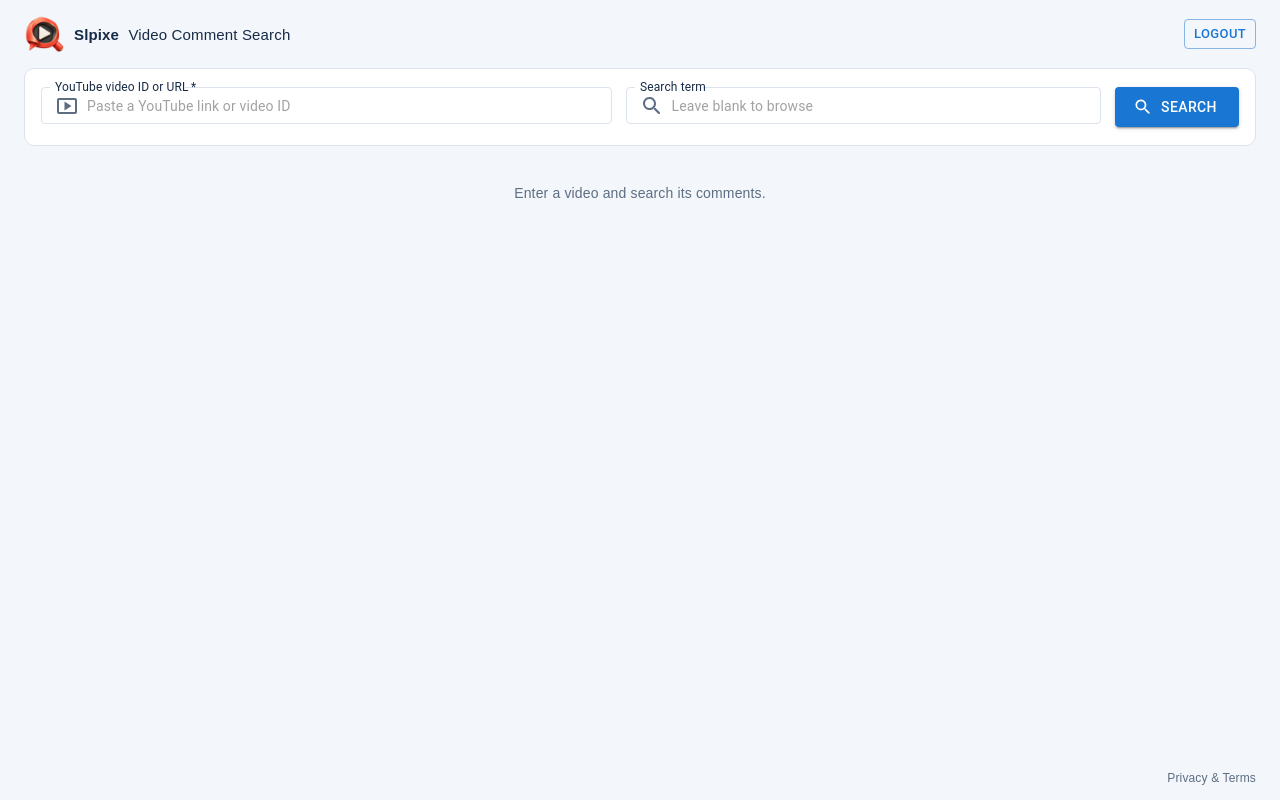
Test: VideoCommentsSearch › appends subsequent pages and hides the button on the final page
Type "kJQP7kiw5Fk" into the field labelled "YouTube video ID or URL *" at (349, 106), box [87,87,612,124]
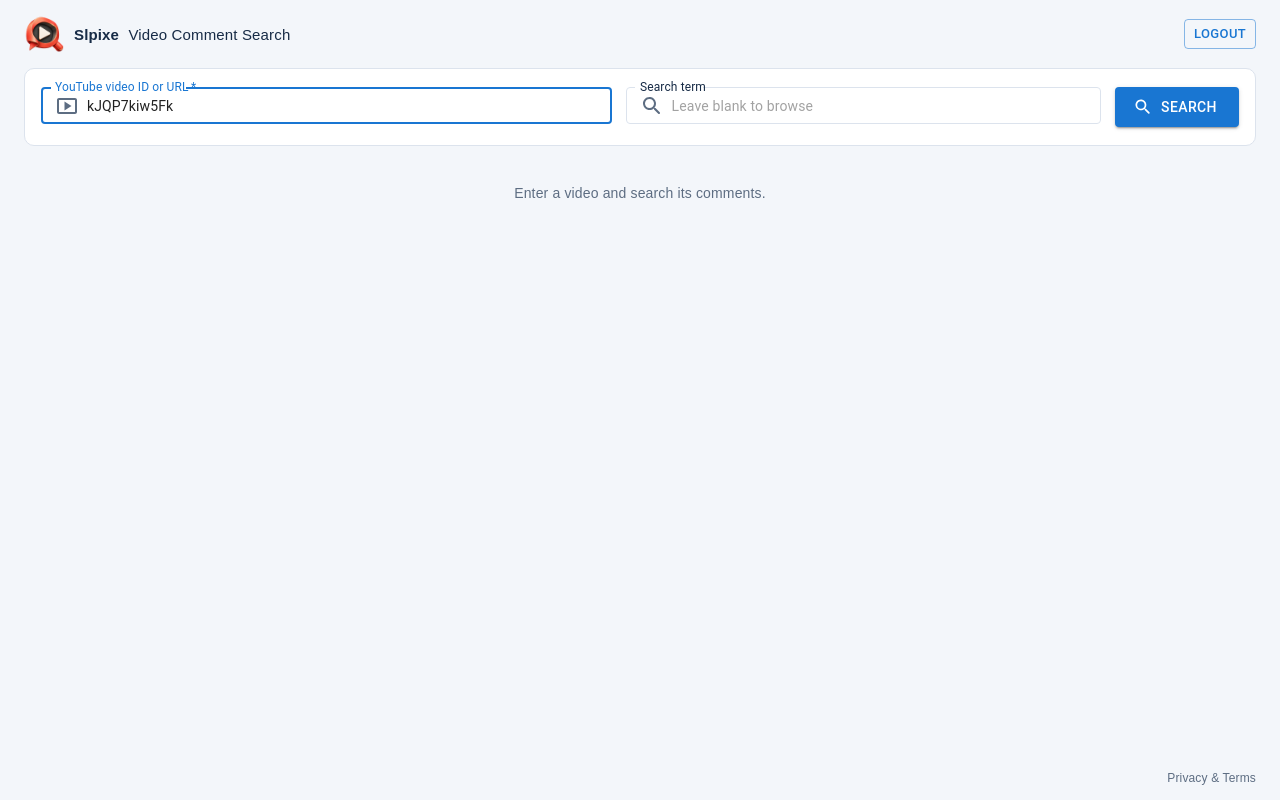
Click the button "Search" at (1177, 107), box [1115,87,1239,127]
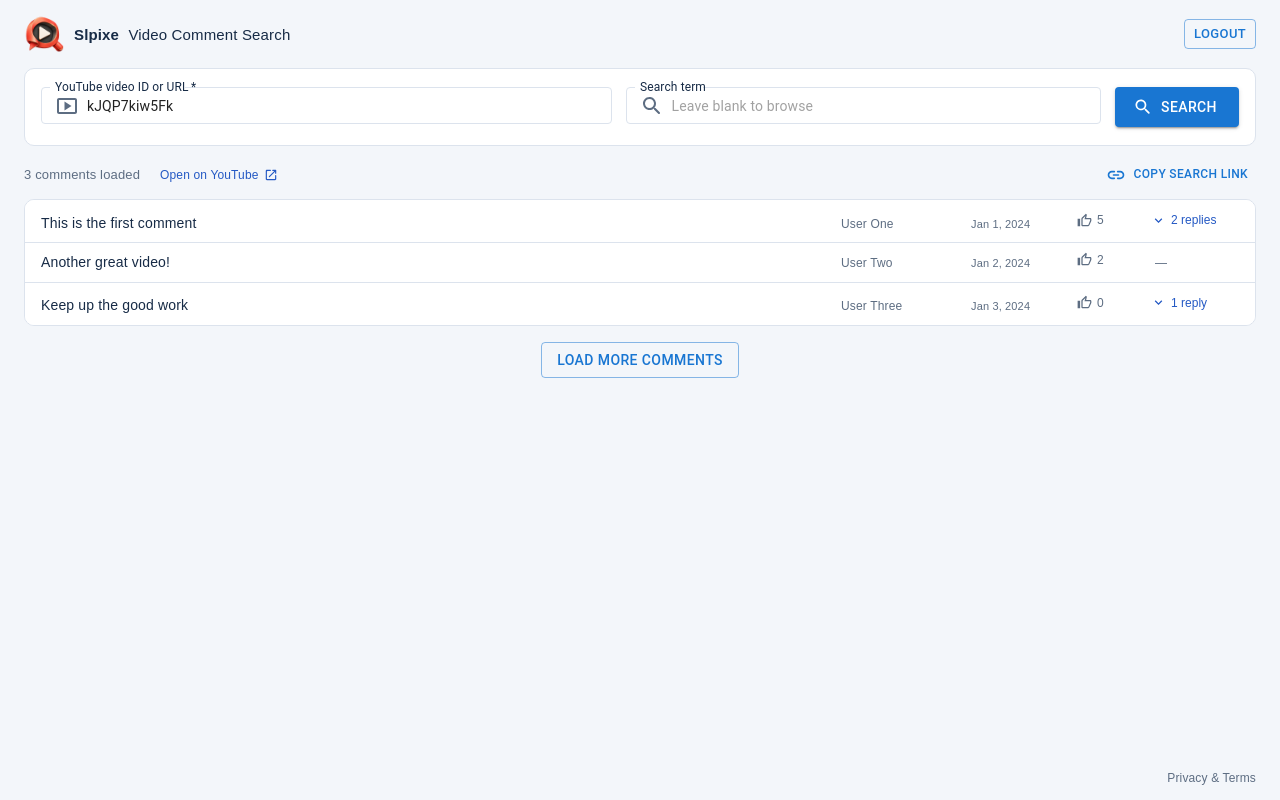
Result: the text "This is the first comment" is shown at [41,214,196,230]
Click the button "Load more comments" at (640, 360), box [541,342,739,378]
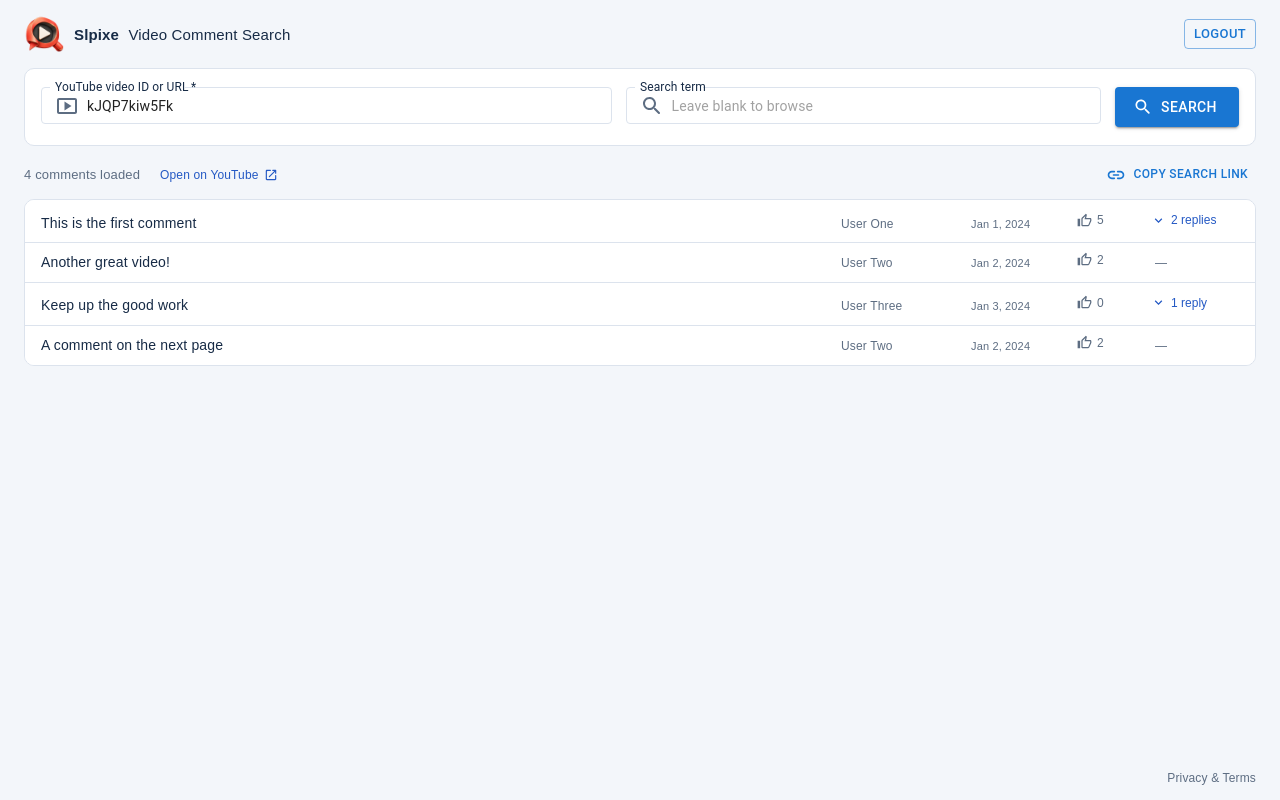
Result: the text "This is the first comment" is shown at [41,214,196,230]
Result: the text "A comment on the next page" is shown at [41,337,223,353]
Result: the message reads "4 comments loaded" at [24,165,140,184]
